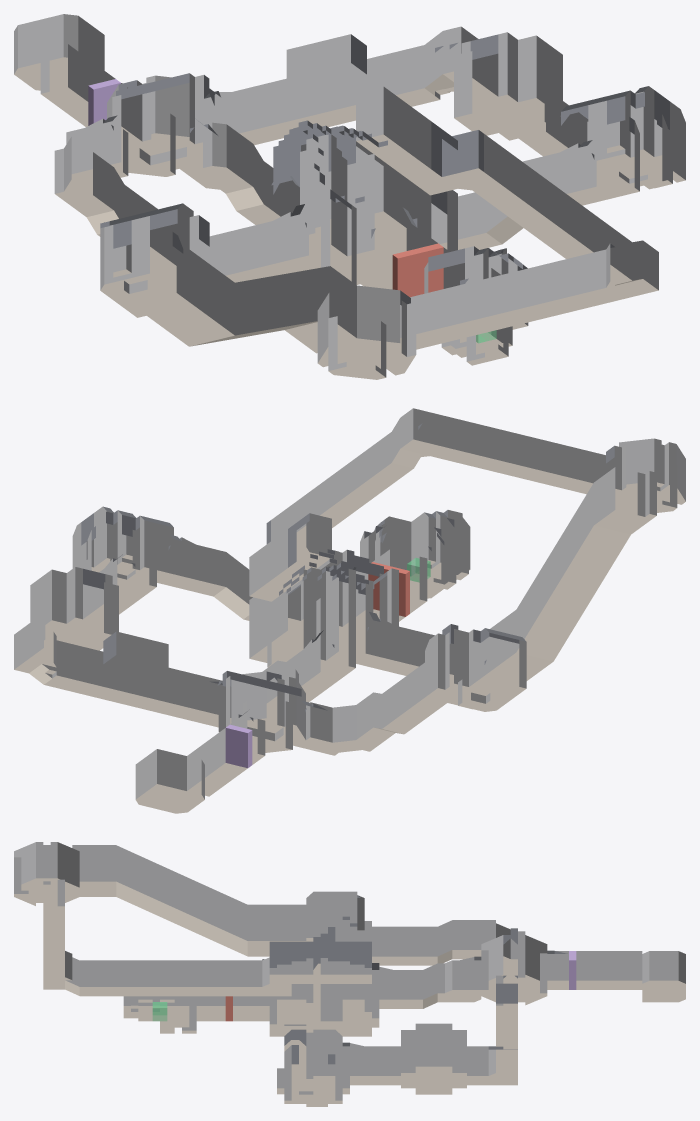
Rendered from deeplab_02.glb.
The picture shows the model from 3 angles, top to bottom: view 1: azimuth 30°, elevation 25°; view 2: azimuth 150°, elevation 25°; view 3: azimuth 270°, elevation 25°; orthographic projection. The views are drawn at different scales.
Parts seen in each view (by area): view 1: corridor:7, corridor:8, room:2, corridor:0, room:4, corridor:6, room:1, room:0, room:5, corridor:4, room:6, room:2/piers (+24 smaller); view 2: corridor:7, corridor:8, corridor:0, room:2, corridor:6, room:4, room:3, room:5, corridor:3, room:1, room:6, room:0 (+17 smaller); view 3: corridor:0, corridor:8, corridor:7, room:2, corridor:6, corridor:5, room:0, room:4, corridor:4, room:5, room:6, room:1 (+13 smaller).
Part boxes in pixels (x1,y1,x2,y2): corridor:7: (231, 26, 572, 156); corridor:8: (400, 130, 658, 349); room:2: (273, 86, 457, 286); corridor:0: (147, 244, 356, 353); room:4: (561, 86, 685, 200); corridor:6: (54, 128, 177, 273); room:1: (100, 203, 209, 317); room:0: (317, 285, 415, 379); room:5: (107, 73, 214, 176); corridor:4: (201, 122, 284, 224); room:6: (14, 14, 104, 91); room:2/piers: (331, 134, 374, 256); corridor:7: (14, 567, 231, 722); corridor:8: (266, 408, 614, 561); corridor:0: (473, 467, 656, 686); room:2: (249, 513, 398, 680); corridor:6: (306, 662, 446, 755); room:4: (72, 506, 173, 599); room:3: (360, 510, 470, 599); room:5: (219, 671, 305, 753); corridor:3: (184, 545, 300, 629); room:1: (425, 624, 526, 711); room:6: (135, 749, 204, 813); room:0: (606, 438, 685, 514); corridor:0: (72, 845, 306, 956); corridor:8: (43, 879, 291, 996); corridor:7: (364, 975, 517, 1094); room:2: (269, 916, 371, 1036); corridor:6: (364, 920, 517, 965); corridor:5: (547, 951, 642, 989); room:0: (14, 842, 79, 906); room:4: (284, 1029, 342, 1103); corridor:4: (393, 960, 481, 1008); room:5: (481, 928, 547, 1005); room:6: (642, 951, 685, 1002); room:1: (306, 891, 364, 941).
Bounding box in the file's own units: 59 × 14.5 × 92.
